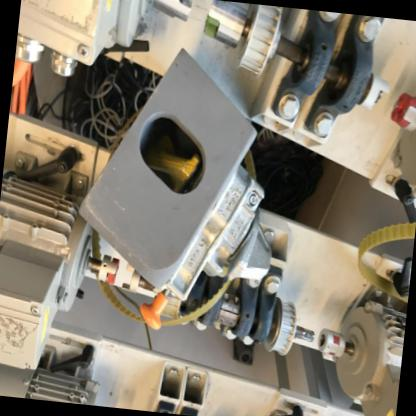CornerCasting: (66, 48, 262, 294)
Twistlock: (134, 150, 280, 348)
